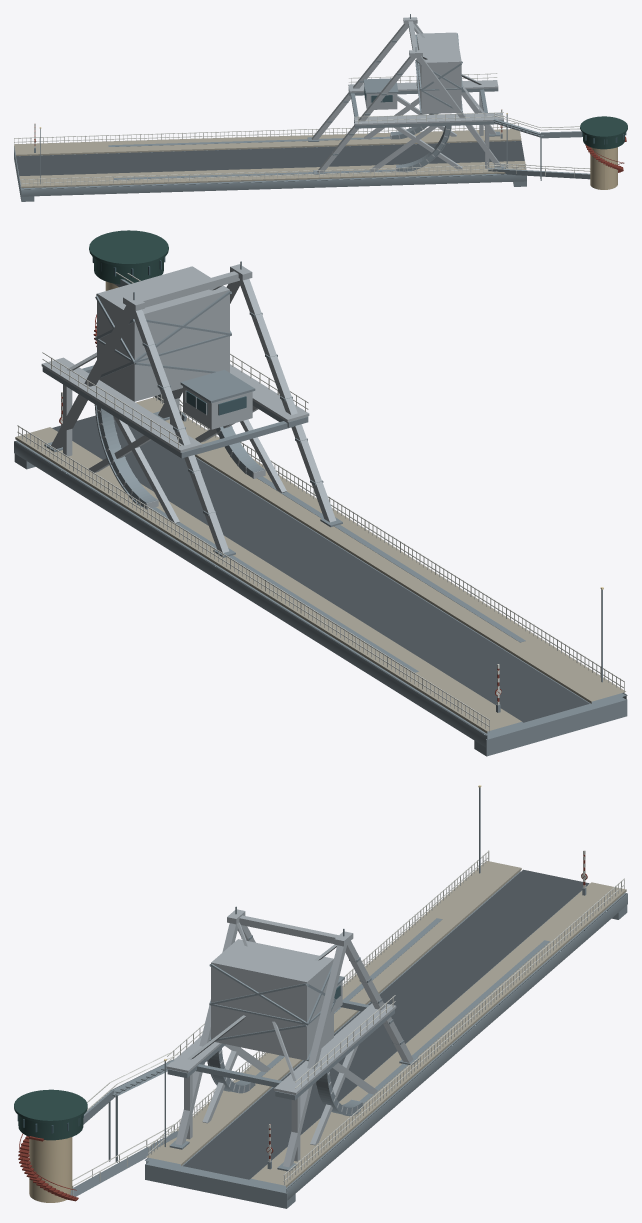
Rendered from pegasus-bridge-near.glb.
The picture shows the model from 3 angles, top to bottom: view 1: azimuth 30°, elevation 25°; view 2: azimuth 150°, elevation 25°; view 3: azimuth 270°, elevation 25°; orthographic projection. The views are drawn at different scales.
Parts seen in each view (by area): view 1: pegasus-bridge-0-concrete, pegasus-bridge-0-steel, pegasus-bridge-0-asphalt, pegasus-bridge-0-edge, pegasus-bridge-0-foundation, pegasus-bridge-0-rail, pegasus-bridge-0-roof, pegasus-bridge-0-tower, pegasus-bridge-0-red; view 2: pegasus-bridge-0-steel, pegasus-bridge-0-asphalt, pegasus-bridge-0-concrete, pegasus-bridge-0-foundation, pegasus-bridge-0-edge, pegasus-bridge-0-rail, pegasus-bridge-0-roof, pegasus-bridge-0-glass; view 3: pegasus-bridge-0-steel, pegasus-bridge-0-concrete, pegasus-bridge-0-asphalt, pegasus-bridge-0-edge, pegasus-bridge-0-foundation, pegasus-bridge-0-rail, pegasus-bridge-0-roof, pegasus-bridge-0-tower, pegasus-bridge-0-red.
Part boxes in pixels (x1,y1,x2,y2): pegasus-bridge-0-concrete: (14,129,526,187); pegasus-bridge-0-steel: (311,17,503,172); pegasus-bridge-0-asphalt: (16,141,524,176); pegasus-bridge-0-edge: (34,14,590,184); pegasus-bridge-0-foundation: (14,141,590,201); pegasus-bridge-0-rail: (14,73,590,186); pegasus-bridge-0-roof: (580,116,627,149); pegasus-bridge-0-tower: (590,147,617,189); pegasus-bridge-0-red: (34,125,626,172); pegasus-bridge-0-steel: (41,264,336,552); pegasus-bridge-0-asphalt: (52,415,589,722); pegasus-bridge-0-concrete: (15,397,625,733); pegasus-bridge-0-foundation: (14,396,627,756); pegasus-bridge-0-edge: (42,261,602,712); pegasus-bridge-0-rail: (17,272,624,731); pegasus-bridge-0-roof: (89,230,168,284); pegasus-bridge-0-glass: (92,257,246,415); pegasus-bridge-0-steel: (166,909,413,1167); pegasus-bridge-0-concrete: (146,860,626,1187); pegasus-bridge-0-asphalt: (183,869,589,1179); pegasus-bridge-0-edge: (70,787,586,1195); pegasus-bridge-0-foundation: (74,871,627,1208); pegasus-bridge-0-rail: (72,850,624,1195); pegasus-bridge-0-roof: (14,1089,87,1140); pegasus-bridge-0-tower: (29,1137,72,1202); pegasus-bridge-0-red: (18,854,587,1201).
Size of the model in its own units: 82.32 by 23.45 by 61.55.
